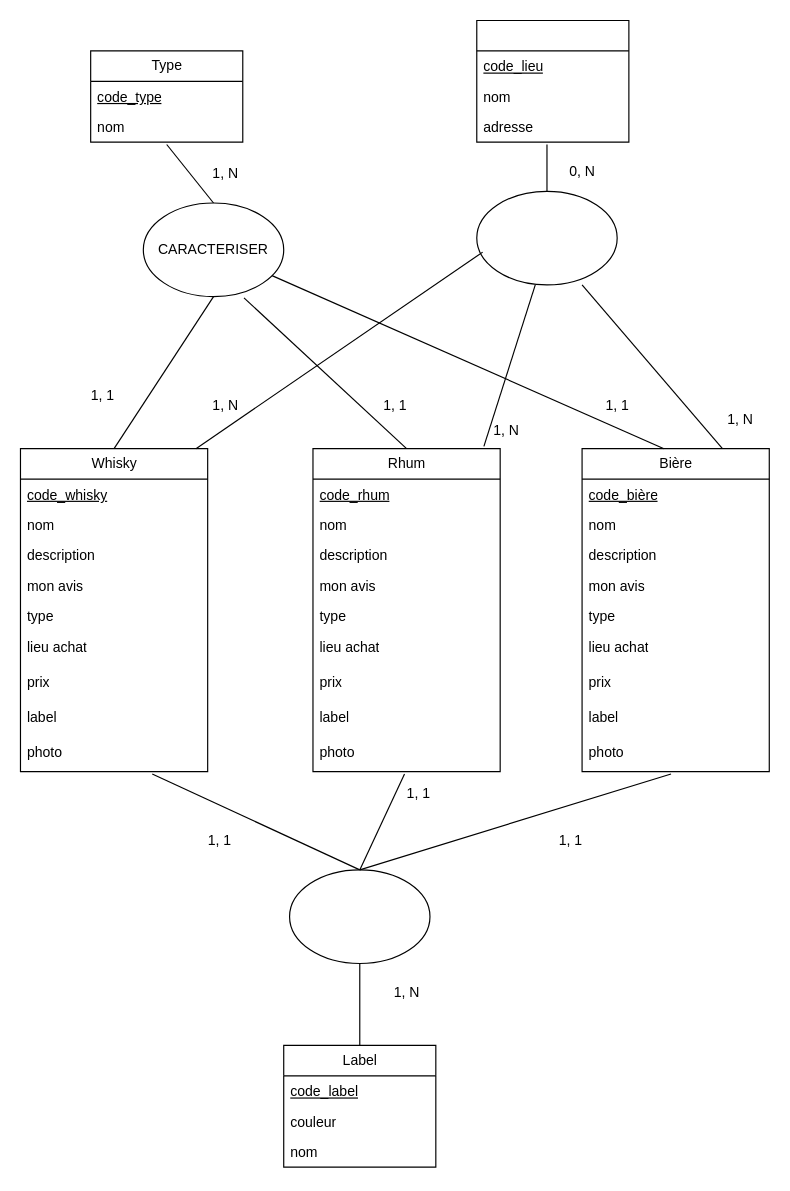
This 790x1191 diagram has some shape labels left out. Each missing label, with the box of its shape:
ACHETER: (476, 190, 617, 285)
lieu d'achat: (476, 19, 629, 142)
POSSEDER: (288, 869, 430, 963)
